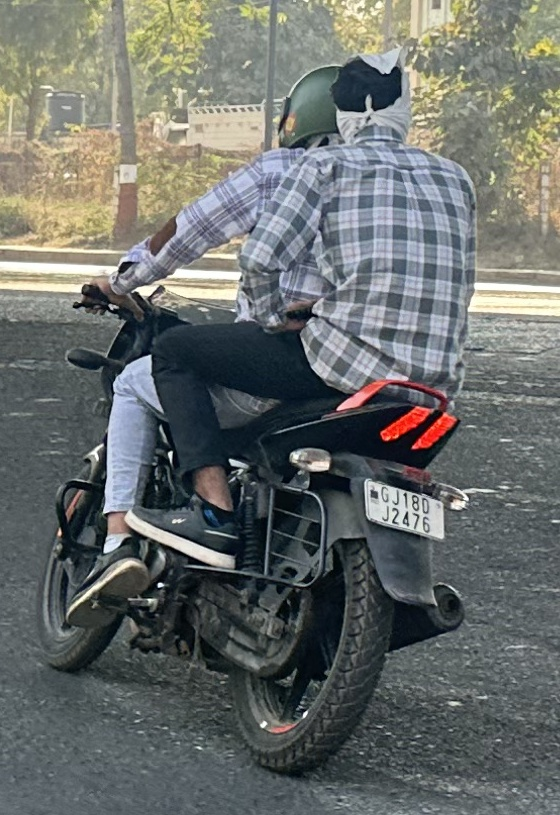BikeWithRider: (32, 51, 474, 777)
Helmet: (275, 60, 348, 153)
NoHelmet: (332, 54, 409, 149)
